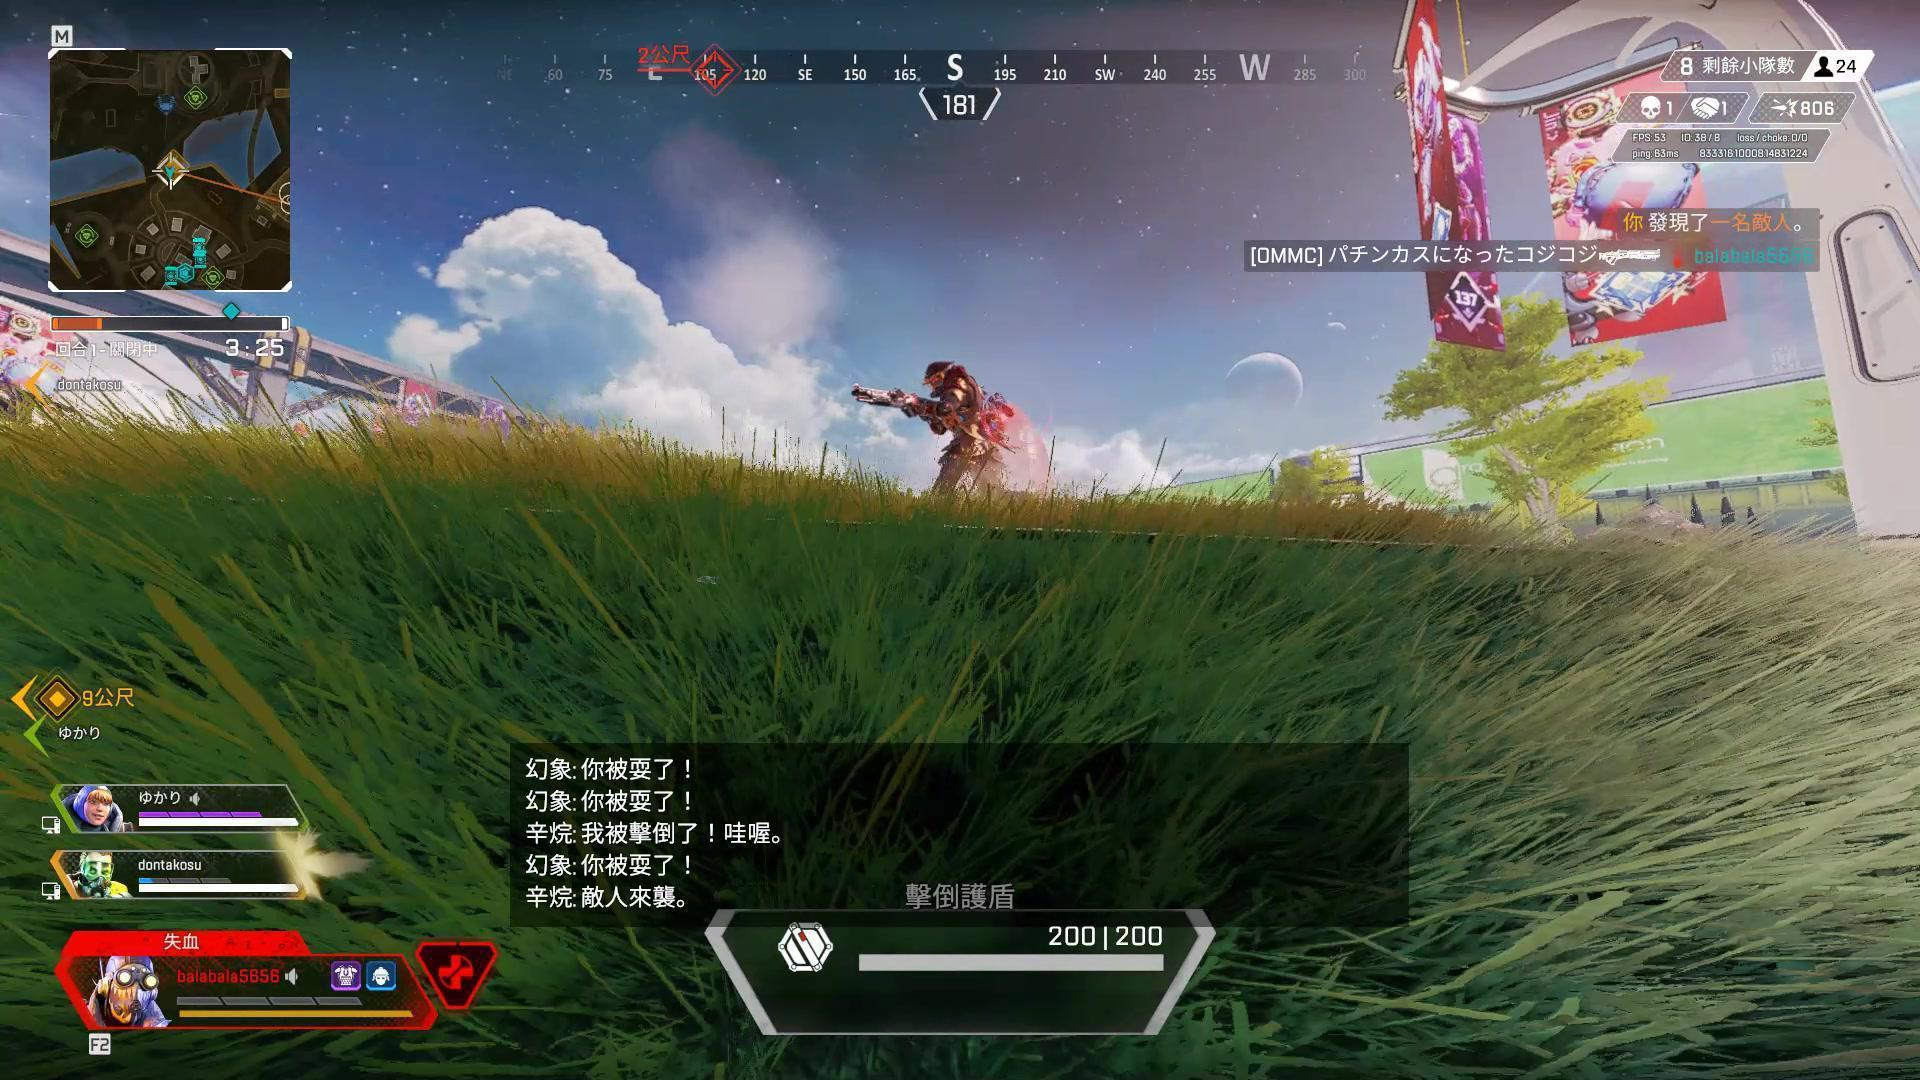avatar: (920, 355, 1015, 501)
